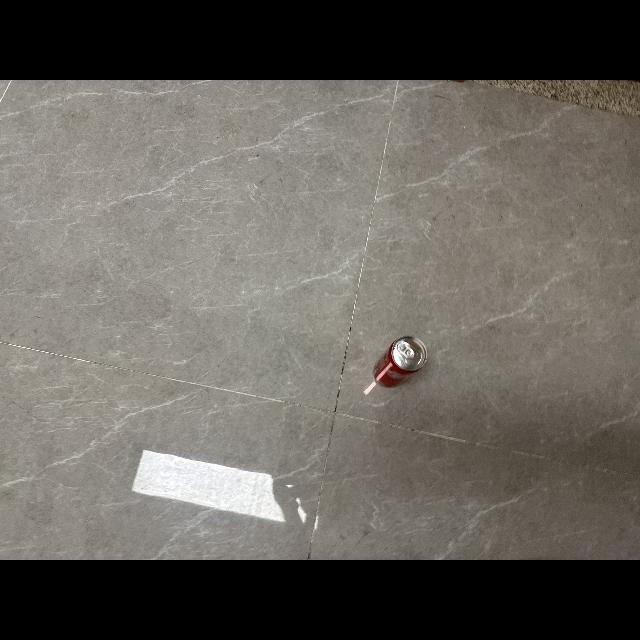Cola: (370, 331, 430, 395)
